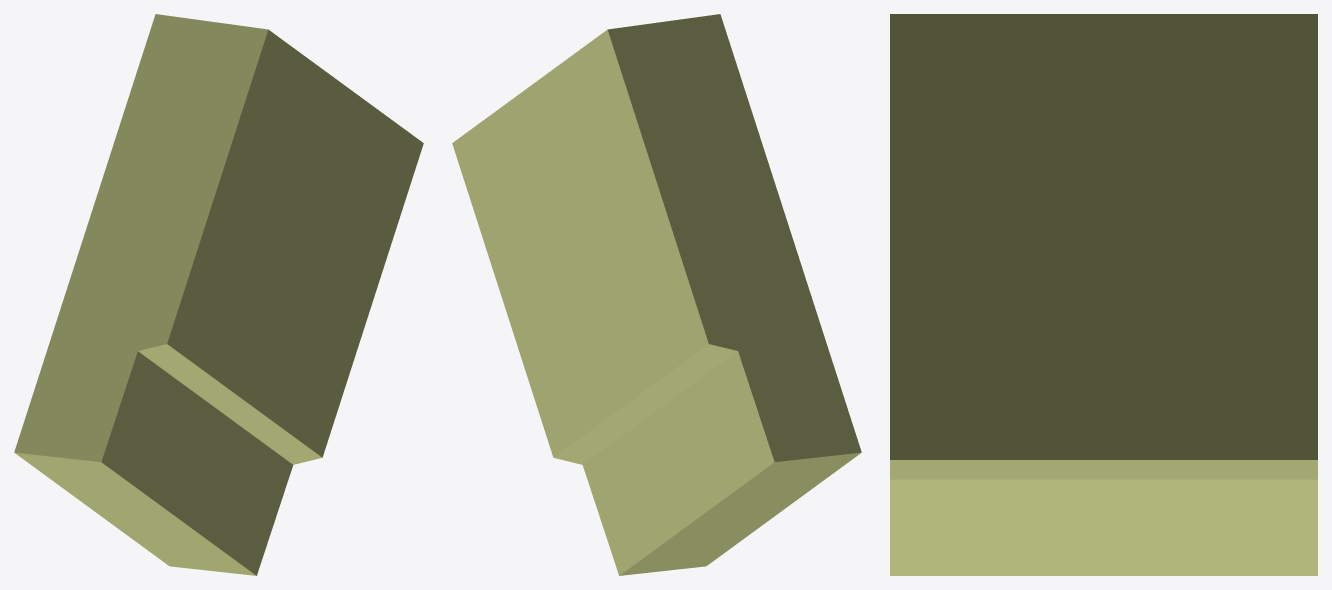
3 renders of one model, left to right at view 1: azimuth 30°, elevation 25°; view 2: azimuth 150°, elevation 25°; view 3: azimuth 270°, elevation 25°, orthographic. The views are drawn at different scales.
Visible parts, largest first — view 1: 0_1_1_3_3_0_1_2_2_2; view 2: 0_1_1_3_3_0_1_2_2_2; view 3: 0_1_1_3_3_0_1_2_2_2.
Part boxes in pixels (box(x1,y1,x2,y2)): 0_1_1_3_3_0_1_2_2_2: box(14, 14, 423, 575); 0_1_1_3_3_0_1_2_2_2: box(452, 14, 861, 575); 0_1_1_3_3_0_1_2_2_2: box(890, 14, 1317, 575).
Bounding box in the file's own units: 8.5 × 13.89 × 9.
